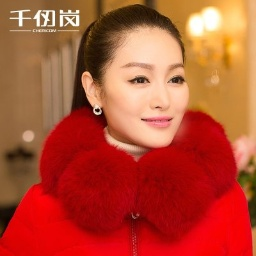face: (75, 3, 189, 148)
